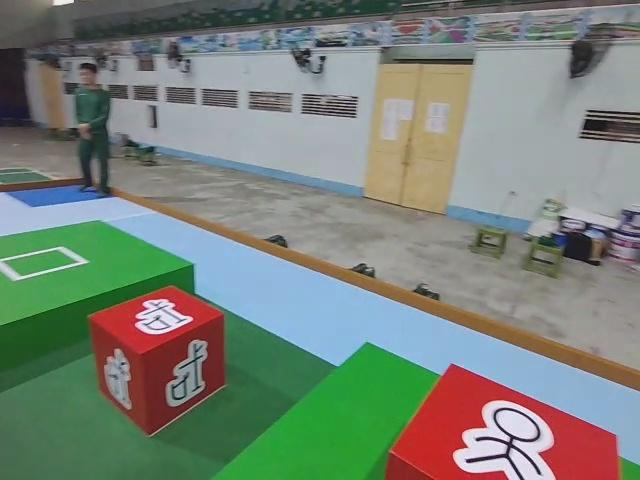R2 Real: (382, 359, 622, 480), (85, 281, 228, 436)
